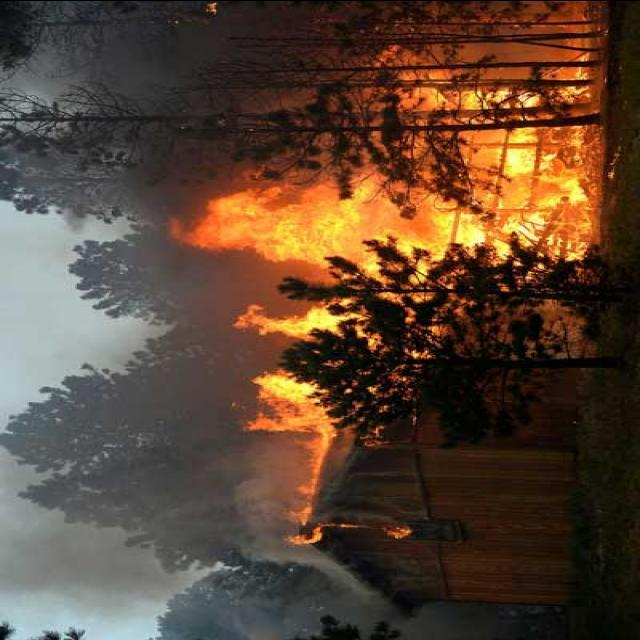Fire: (165, 46, 603, 545)
